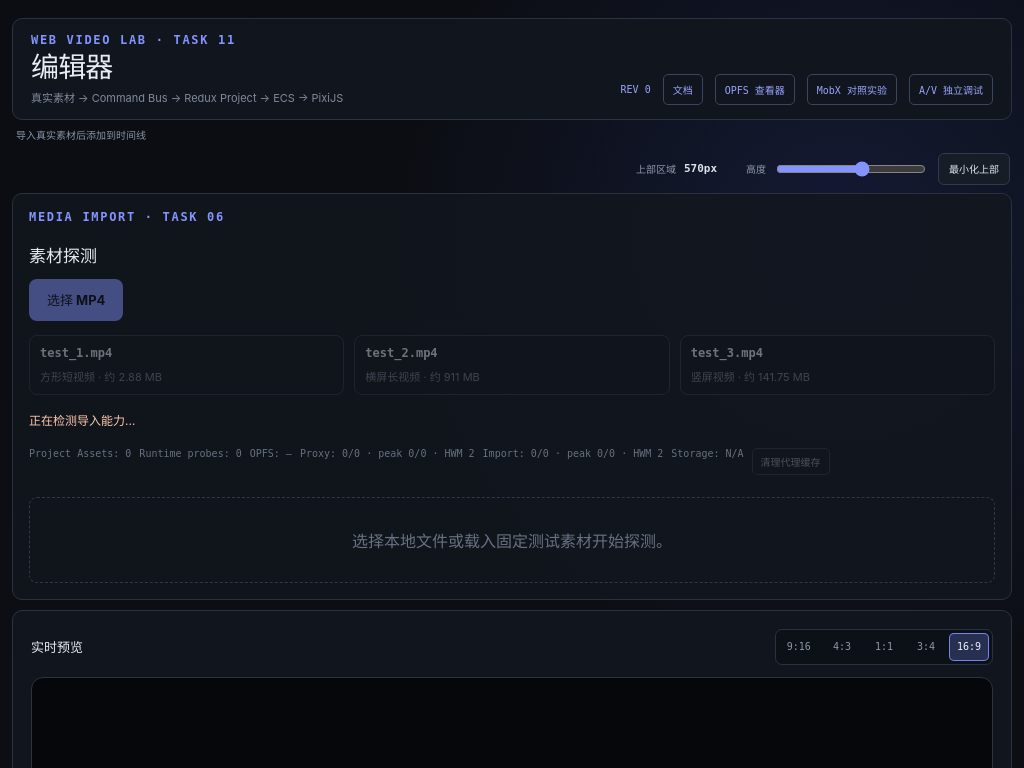
it: editor interactions › resizes and minimizes the upper media and preview workspace
Set the slider named "上部区域高度" to "430" at coordinates (824, 168), box [776,160,926,176]
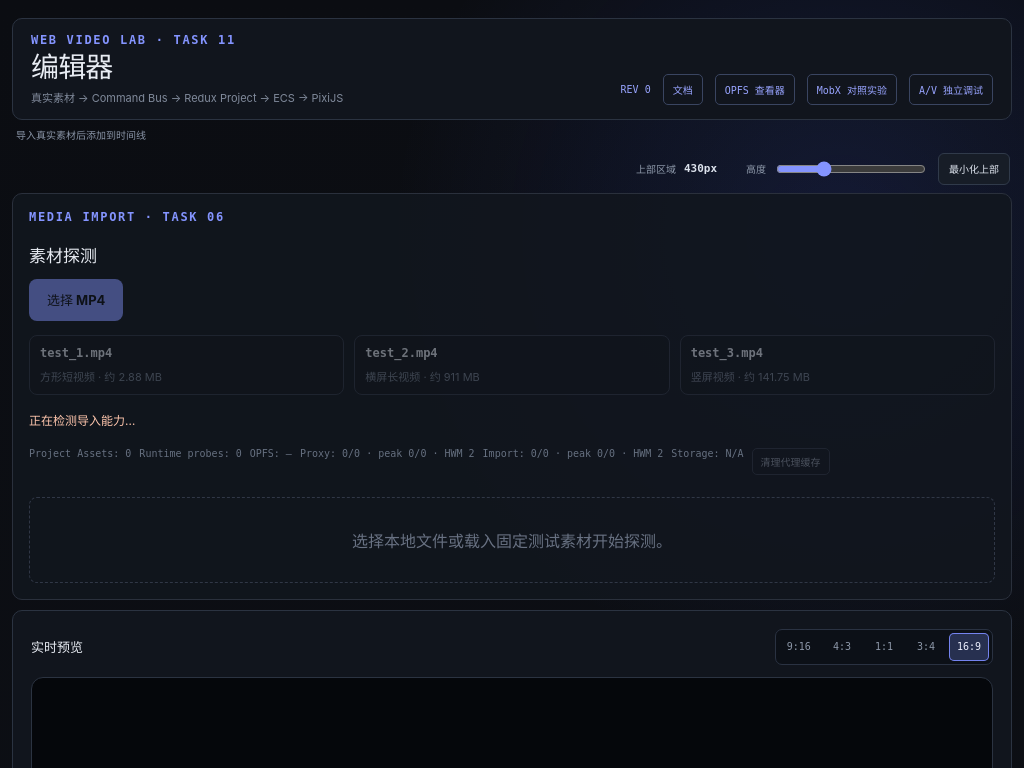
expect the text "430px" is shown: met, box [684,162,717,175]
Click the button "最小化上部".
click(974, 168)  # box [938,152,1010,184]
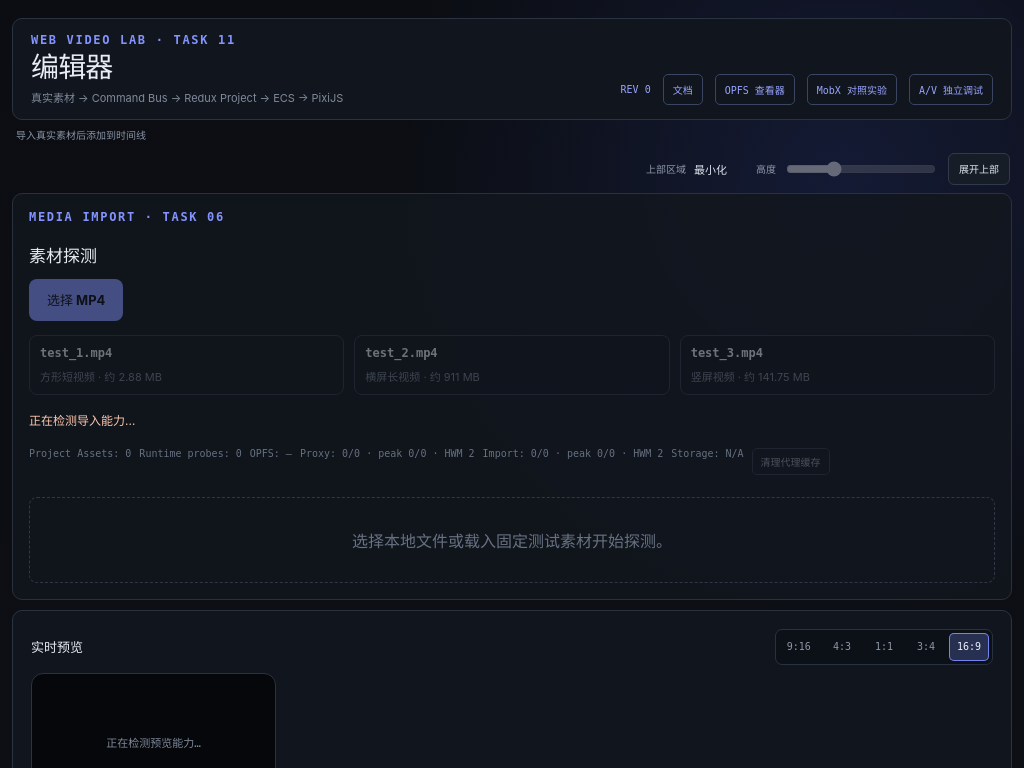
expect the slider named "上部区域高度" is disabled: met, box [786,160,936,176]
Click the button "展开上部".
click(979, 168)  # box [948,152,1010,184]
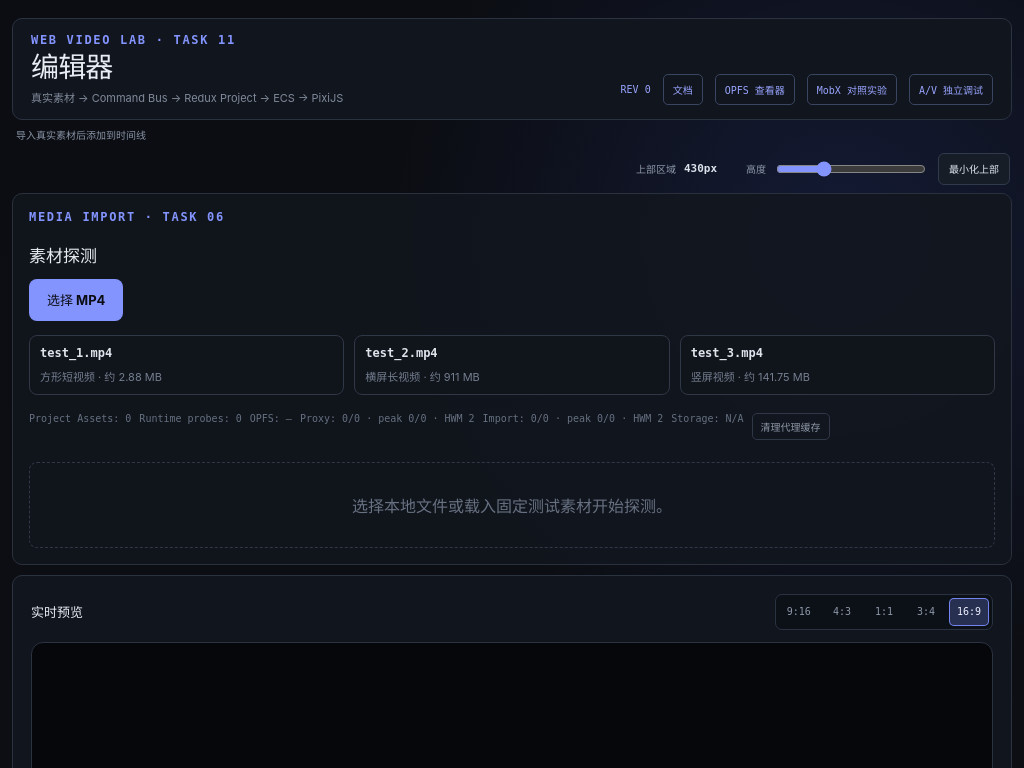
expect the text "430px" is shown: met, box [684,162,717,175]
expect the slider named "上部区域高度" is enabled: met, box [776,160,926,176]
